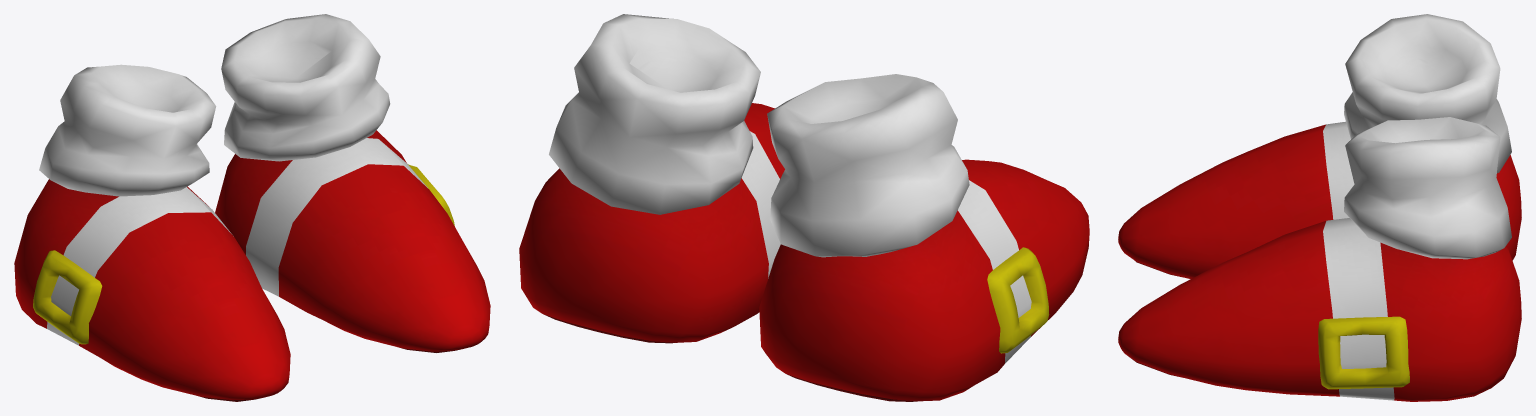
The model's file is feet.glb.
3 renders of one model, left to right at view 1: azimuth 30°, elevation 25°; view 2: azimuth 150°, elevation 25°; view 3: azimuth 270°, elevation 25°, orthographic. The views are drawn at different scales.
Visible parts, largest first — view 1: 004_Object_3.001; view 2: 004_Object_3.001; view 3: 004_Object_3.001.
Boxes of the visible parts, x1,y1,x2,y2 form: 004_Object_3.001: [14, 14, 490, 401]; 004_Object_3.001: [519, 14, 1089, 401]; 004_Object_3.001: [1118, 14, 1521, 401].
Size of the model in its own units: 42.63 by 23.67 by 36.85.
1 material, 1 textured.
